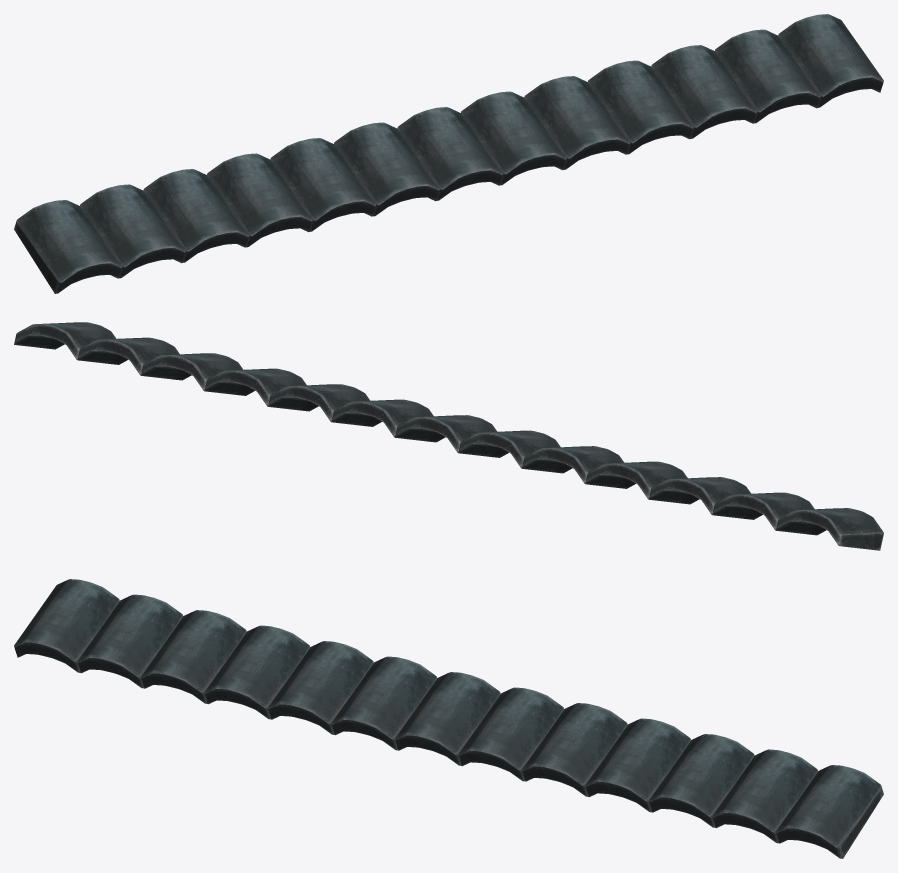
Rendered from tiles02.fbx.
The picture shows the model from 3 angles, top to bottom: view 1: azimuth 30°, elevation 25°; view 2: azimuth 150°, elevation 25°; view 3: azimuth 330°, elevation 25°; orthographic projection.
Visible parts, largest first — view 1: Tiles.004; view 2: Tiles.004; view 3: Tiles.004.
Boxes of the visible parts, x1,y1,x2,y2 form: Tiles.004: (14,14,883,293); Tiles.004: (14,322,883,550); Tiles.004: (14,579,883,858).
Bounding box in the file's own units: 16437 × 1097 × 1714.
